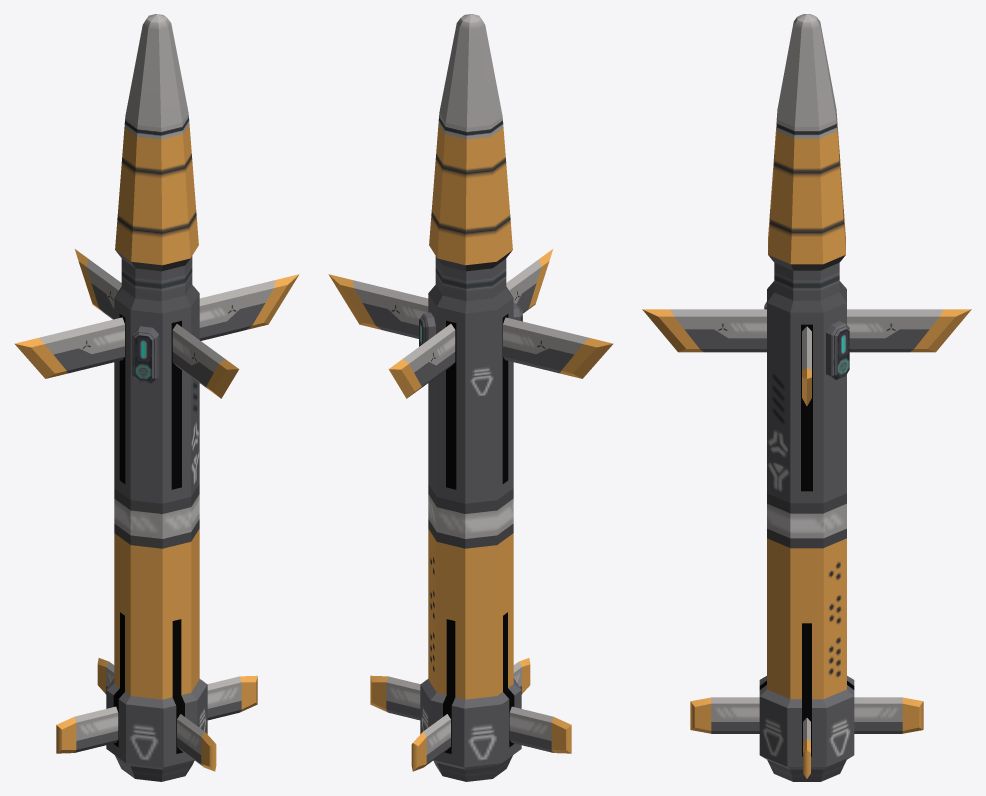
Rendered from SM_Wep_Missile_01.fbx.
The picture shows the model from 3 angles, left to right: view 1: azimuth 30°, elevation 25°; view 2: azimuth 150°, elevation 25°; view 3: azimuth 270°, elevation 25°; orthographic projection.
Parts seen in each view (by area): view 1: SM_Wep_Missile_01; view 2: SM_Wep_Missile_01; view 3: SM_Wep_Missile_01.
Part boxes in pixels (x1,y1,x2,y2): SM_Wep_Missile_01: [14, 14, 299, 781]; SM_Wep_Missile_01: [328, 14, 613, 781]; SM_Wep_Missile_01: [642, 14, 971, 781].
Size of the model in its own units: 58.36 by 147 by 58.36.
